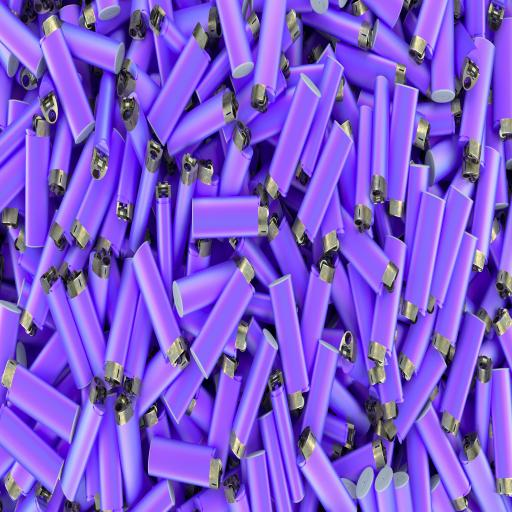lighter: (20, 130, 104, 330), (41, 280, 113, 499), (1, 1, 124, 88), (343, 221, 402, 389), (384, 169, 432, 359), (117, 76, 169, 250), (290, 56, 346, 204), (178, 75, 279, 156), (296, 341, 340, 506), (130, 240, 183, 368), (342, 13, 416, 100), (411, 402, 472, 506), (1, 402, 66, 498), (429, 188, 476, 319), (4, 363, 80, 444), (391, 340, 449, 445), (231, 328, 278, 452), (185, 254, 268, 324), (150, 37, 202, 145), (188, 184, 279, 244), (97, 134, 138, 266), (268, 275, 310, 399), (2, 84, 57, 176), (404, 0, 455, 99), (457, 35, 496, 163), (267, 376, 304, 504), (266, 211, 312, 312), (206, 358, 244, 479), (137, 334, 187, 422), (120, 280, 156, 398), (306, 2, 384, 56), (298, 268, 334, 384), (114, 397, 150, 512), (469, 149, 503, 270), (458, 432, 510, 510), (388, 80, 418, 214), (252, 0, 287, 102), (168, 345, 214, 422), (172, 150, 202, 264), (474, 265, 510, 358), (122, 59, 162, 142), (214, 0, 253, 84), (336, 438, 382, 508), (25, 128, 50, 248), (402, 161, 430, 268), (89, 70, 115, 183), (159, 438, 215, 488), (0, 139, 32, 226), (192, 43, 235, 107), (370, 74, 390, 209), (354, 105, 374, 231), (219, 129, 255, 197), (484, 107, 510, 201), (330, 250, 356, 344), (492, 16, 512, 136), (6, 228, 36, 305), (0, 302, 22, 406), (423, 135, 462, 189), (474, 355, 494, 456), (329, 370, 361, 430), (245, 448, 275, 511), (172, 2, 218, 41), (454, 14, 481, 80), (123, 478, 174, 512), (281, 60, 327, 95), (91, 0, 133, 38), (356, 1, 404, 30), (16, 50, 44, 89), (303, 27, 329, 66), (0, 56, 14, 128), (393, 468, 415, 512), (0, 36, 21, 82), (465, 0, 487, 40)
